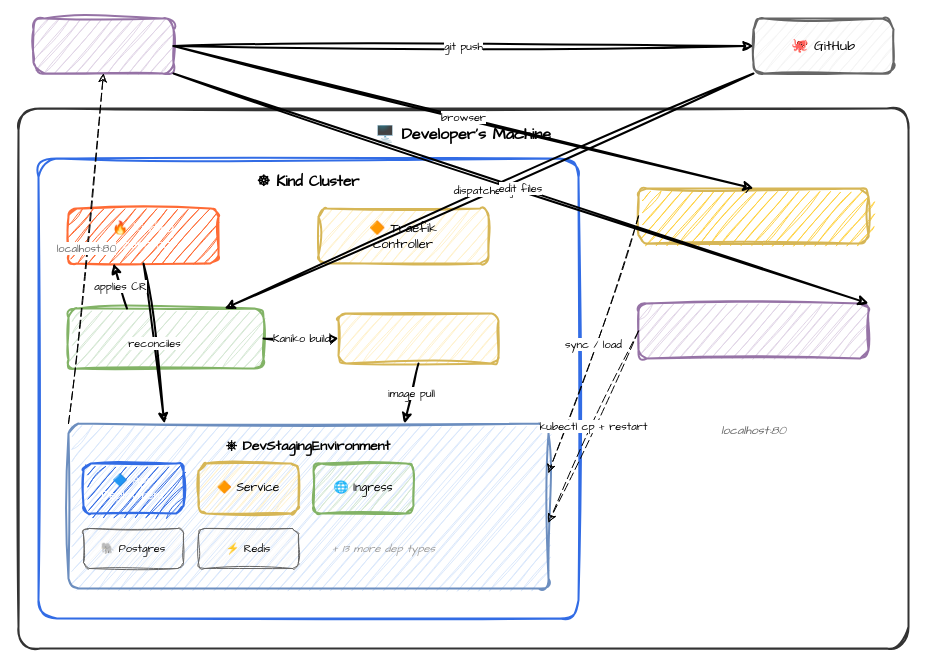
The diagram is 926 pixels wide and 666 high, and some of its shapes have lost their labels. Here are the shapes that lost their labels. From the top down, the box of each, then its label:
(32, 17, 174, 74): 👩‍💻 Developer
(637, 187, 869, 244): 🖥️ Dashboard localhost:9090
(67, 307, 264, 369): 🏃 Runner Pod runner + build-agent
(337, 312, 499, 364): 📦 registry:5000
(637, 302, 869, 359): 🔄 kindling sync file watch + hot reload
